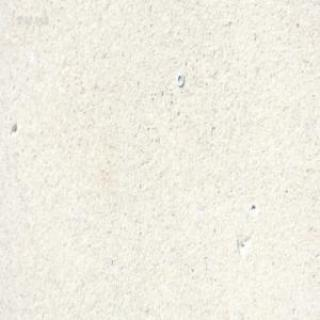Washertrack_idkeyframe: (175, 70, 183, 86)
